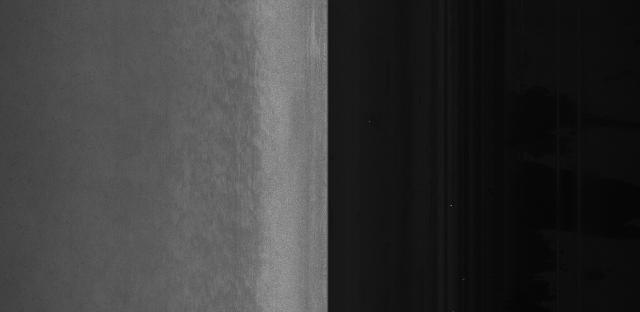silk_spot: (215, 46, 285, 212)
